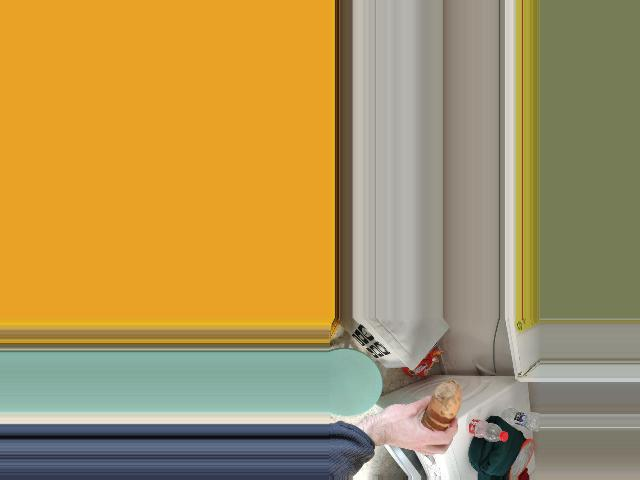sweet_potato: (422, 390, 461, 430)
